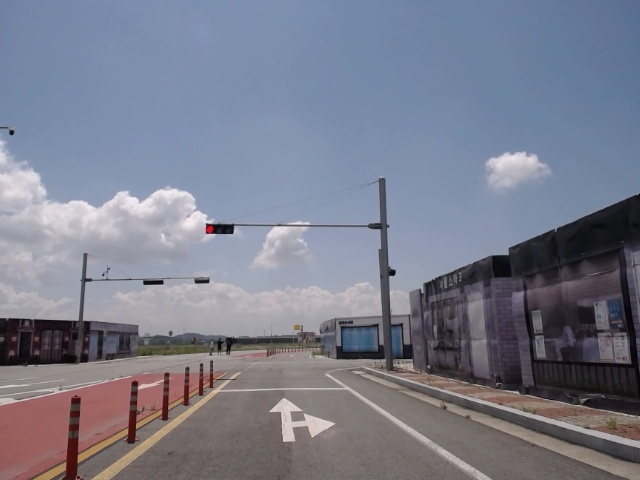red_3: (206, 224, 235, 235)
